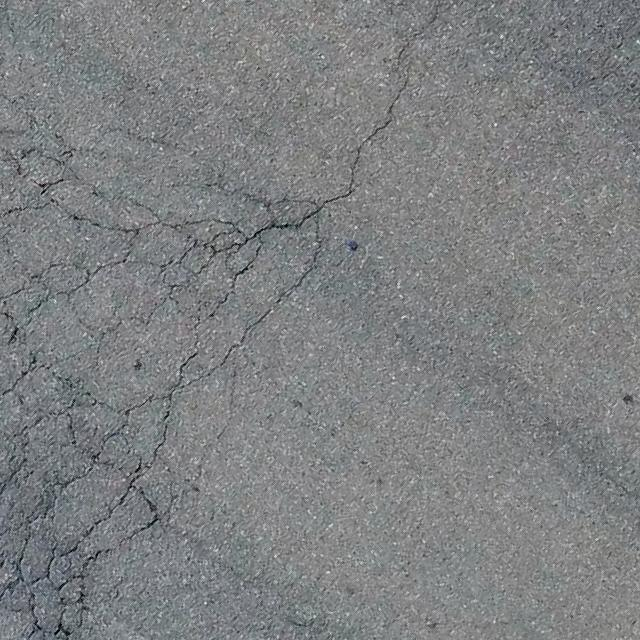GRIETA: (324, 73, 407, 202), (398, 0, 442, 58)
PIEL DE COCODRILO: (0, 72, 335, 639)
